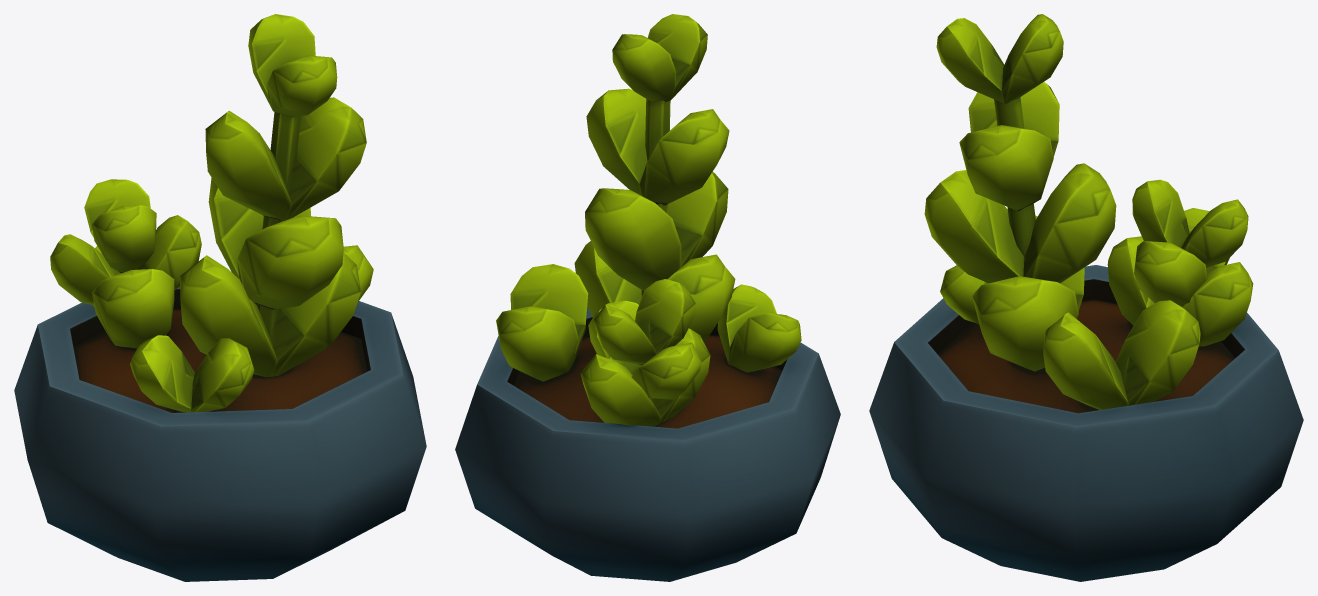
File: cay3.fbx
3 views of the same model, side by side, from view 1: azimuth 30°, elevation 25°; view 2: azimuth 150°, elevation 25°; view 3: azimuth 270°, elevation 25° (orthographic). The views are drawn at different scales.
Visible parts, largest first — view 1: group1; view 2: group1; view 3: group1.
Boxes of the visible parts, x1,y1,x2,y2 form: group1: (14, 14, 426, 581); group1: (455, 14, 840, 581); group1: (869, 14, 1303, 581).
Size of the model in its own units: 74.19 by 99.82 by 74.19.
Materials: 1 (1 with a texture image).
